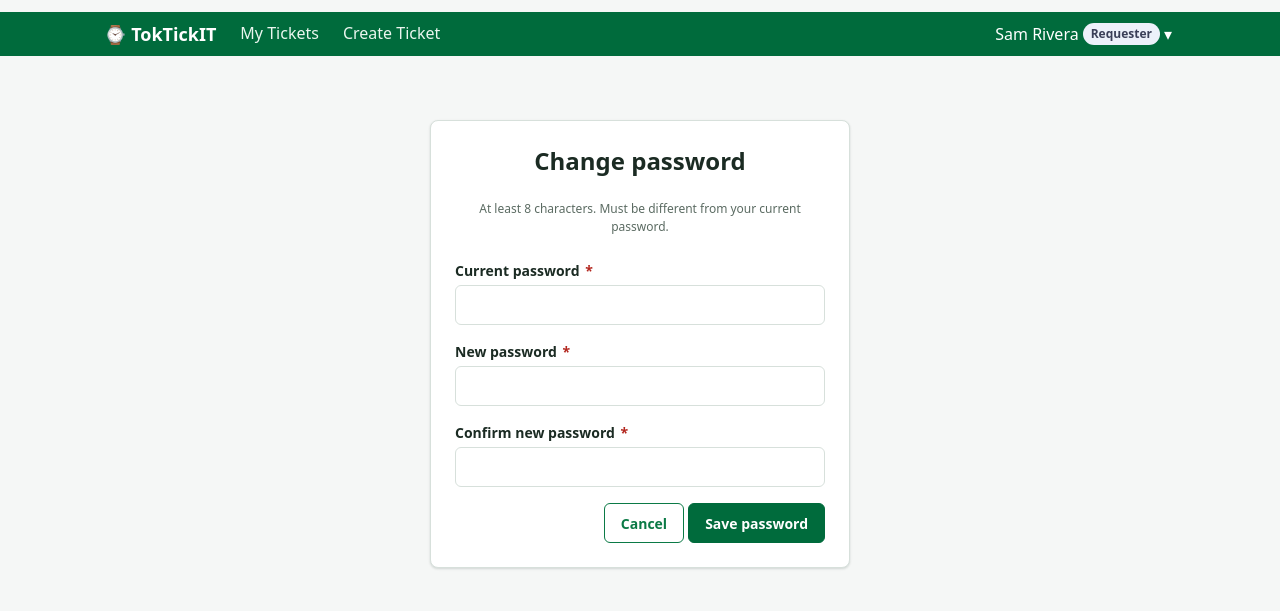
Test: S-05 validation placement (ui-spec.md §5/§6, Lab 2 placement) › Change Password: the confirm-mismatch message renders inside the Confirm field's own .zen-field wrapper
This screenshot has width=1280, height=611.
In the password field labelled "Current password *": (640,305) [455,285,825,325], type "OldPassword1"
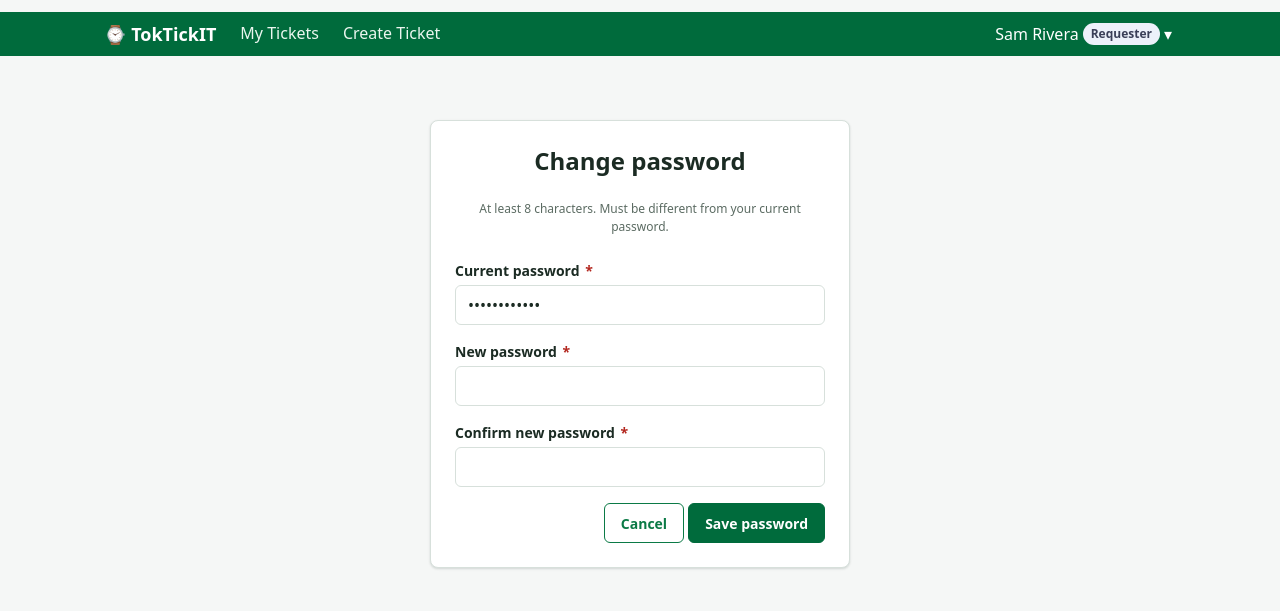
In the password field labelled "New password *": (640,386) [455,366,825,406], type "BrandNewPassword1"
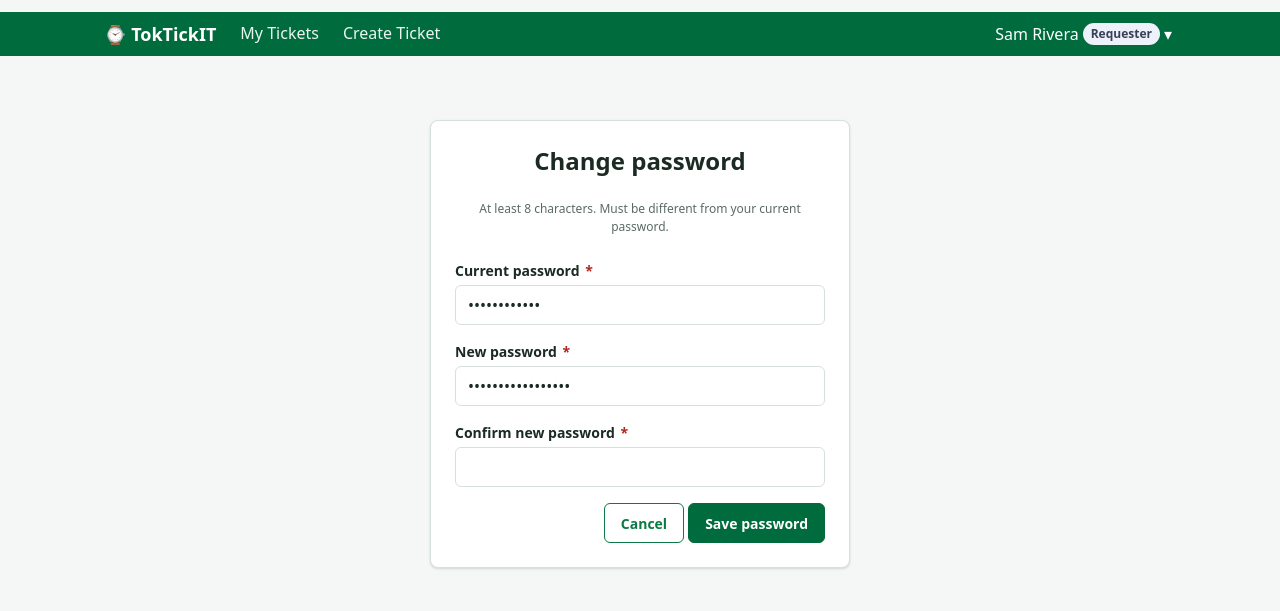
In the password field labelled "Confirm new password *": (640,467) [455,447,825,487], type "SomethingElse1"
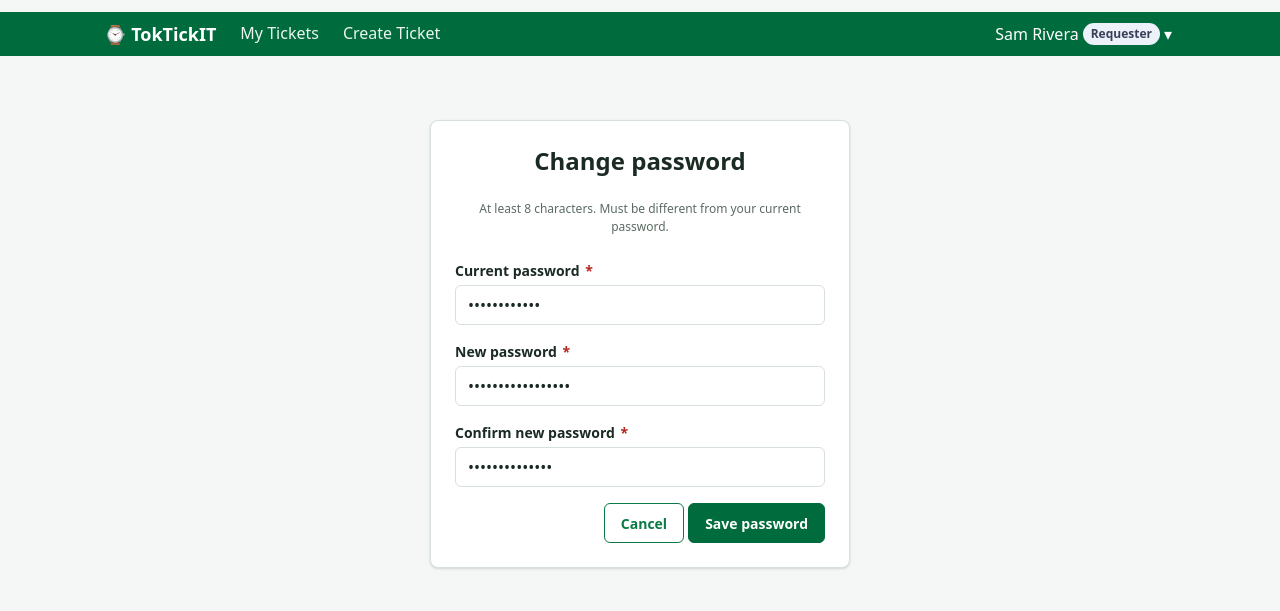
Click the button "Save password": (757,523) [688,503,825,543]
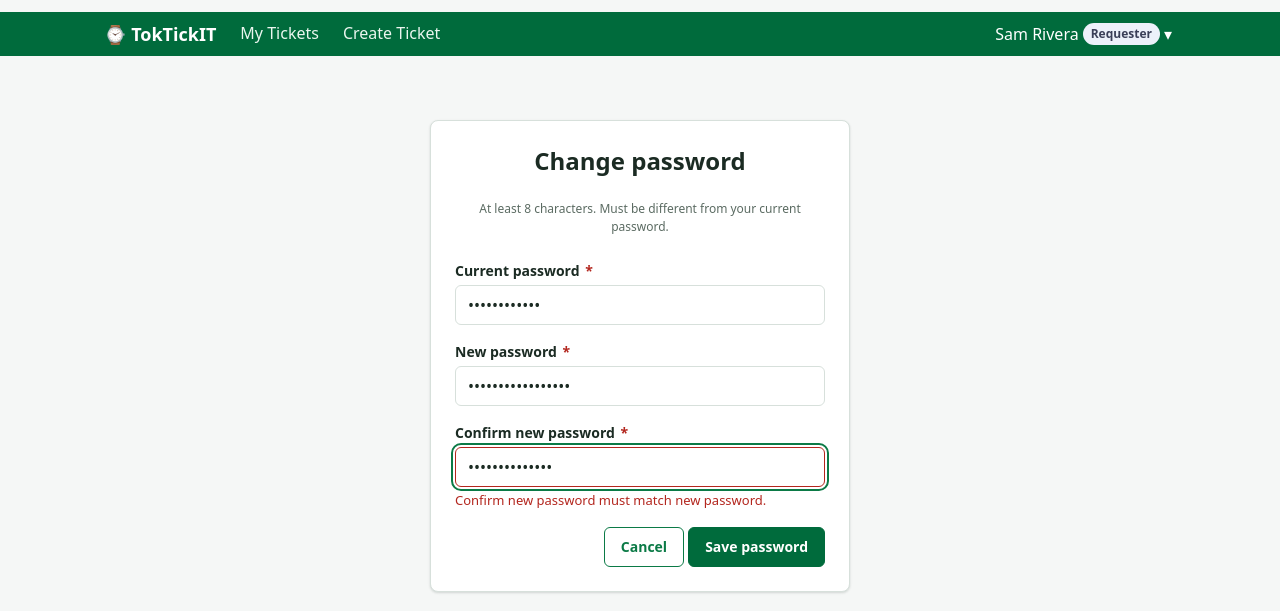
Expected: the element that starts with "Confirm new password" is shown, [455,422,825,511]
Expected: the message "Confirm new password must match new password." is shown, [455,491,766,509]
